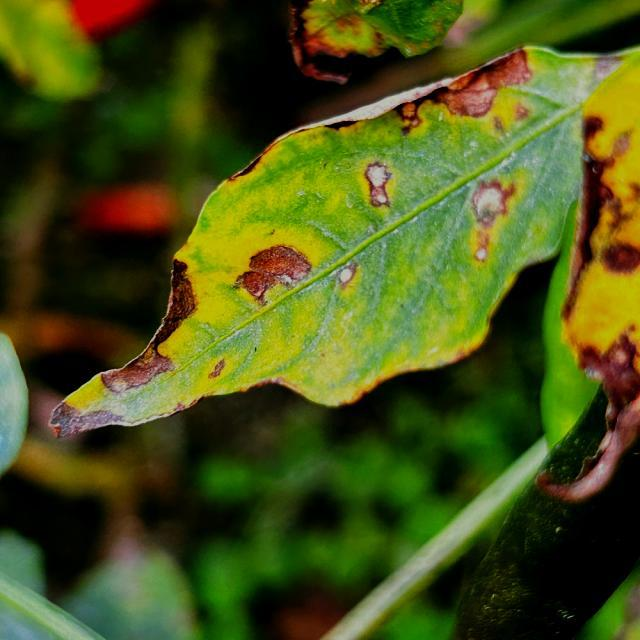Bercak Daun Serkospora: (46, 42, 640, 444)
